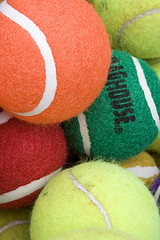tennis ball: (1, 1, 112, 126), (65, 49, 159, 159), (28, 160, 158, 238), (1, 101, 69, 212)
